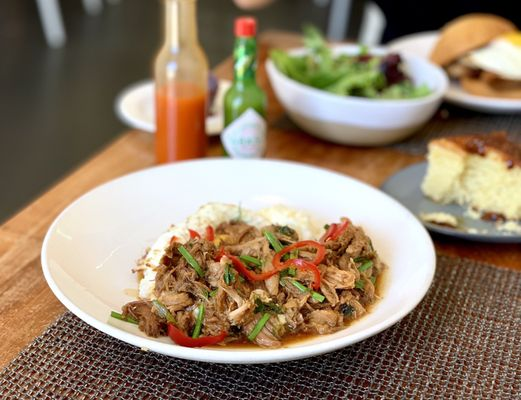soup: (457, 35, 521, 100)
sushi: (27, 157, 432, 363), (265, 41, 448, 147)
taco: (427, 13, 520, 67)
